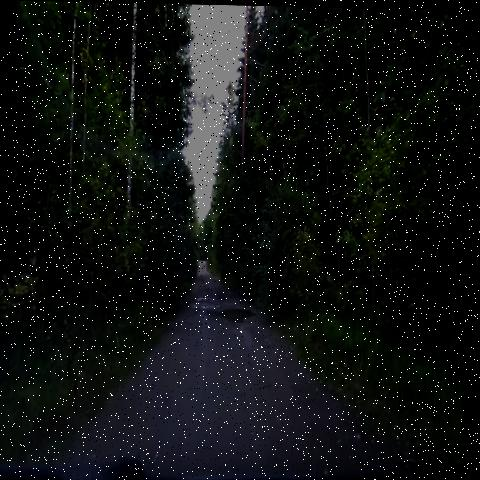pothole: (213, 305, 266, 332), (190, 288, 219, 318)
